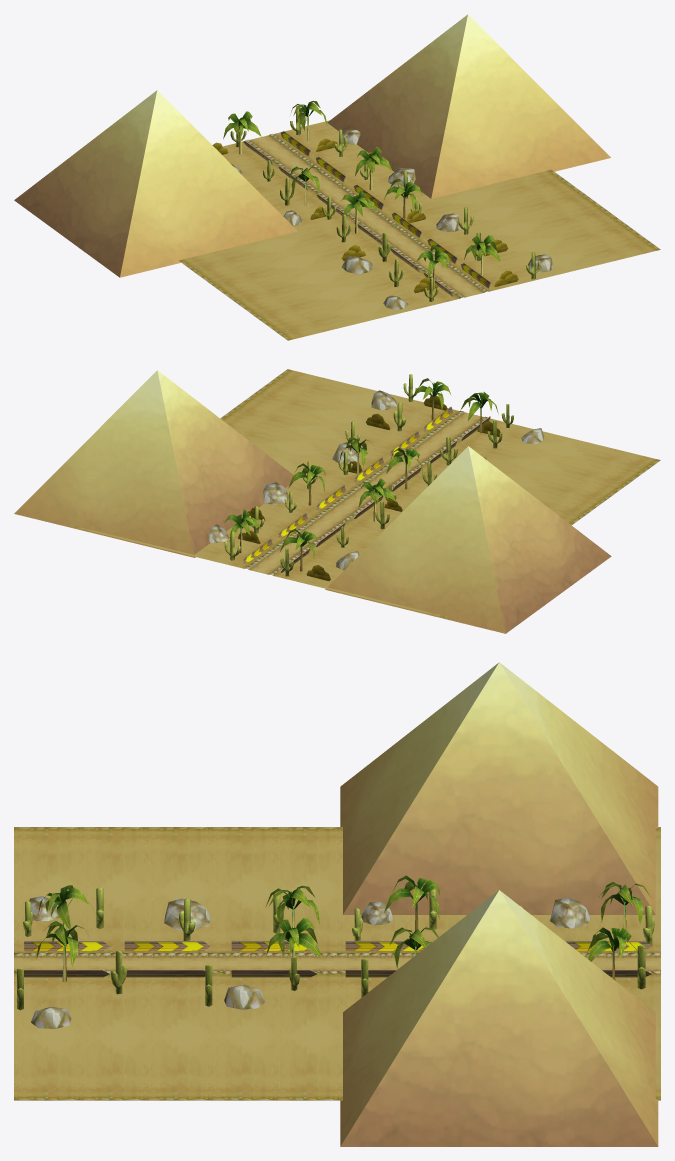
The model's file is DesertRoad02.FBX.
3 renders of one model, top to bottom at view 1: azimuth 30°, elevation 25°; view 2: azimuth 150°, elevation 25°; view 3: azimuth 270°, elevation 25°, orthographic. The views are drawn at different scales.
Visible parts, largest first — view 1: Pyramid (×2), Road (×2), PalmTree (×4); view 2: Pyramid (×2), Road (×2), PalmTree (×7), Stone (×2); view 3: Pyramid (×2), Road (×2), PalmTree (×7), Fence (×5), Stone (×4).
Part boxes in pixels (bbox=[...]): Pyramid (×2): bbox=[14, 14, 610, 277]; Road (×2): bbox=[179, 120, 660, 340]; PalmTree (×4): bbox=[223, 111, 500, 275]; Pyramid (×2): bbox=[14, 370, 611, 633]; Road (×2): bbox=[72, 369, 660, 617]; PalmTree (×7): bbox=[224, 378, 498, 571]; Stone (×2): bbox=[263, 390, 396, 505]; Pyramid (×2): bbox=[340, 662, 658, 1146]; Road (×2): bbox=[14, 827, 660, 1100]; PalmTree (×7): bbox=[36, 875, 650, 982]; Fence (×5): bbox=[24, 941, 427, 977]; Stone (×4): bbox=[31, 897, 590, 1028].
Size of the model in its own units: 13173 by 3295 by 10000.
